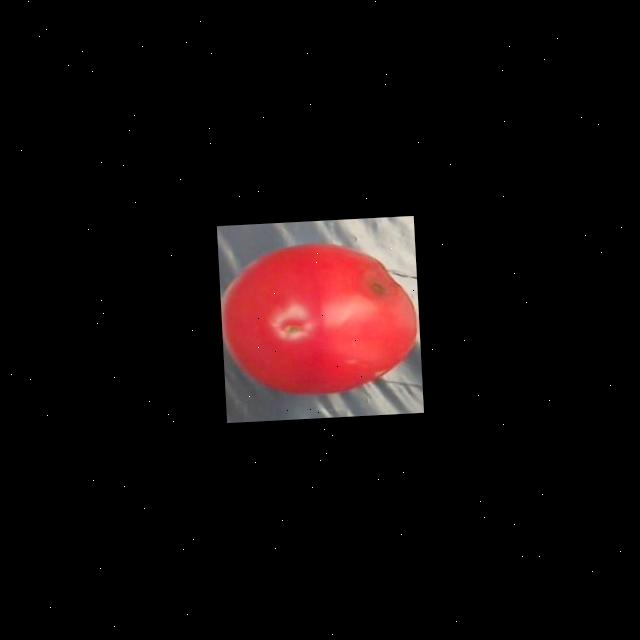tomato: (218, 236, 422, 408)
